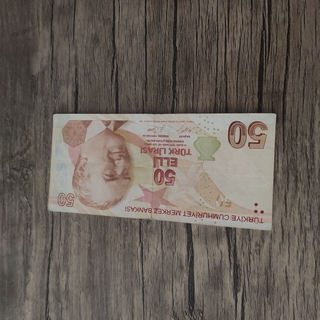50TLFront: (48, 113, 277, 230)
